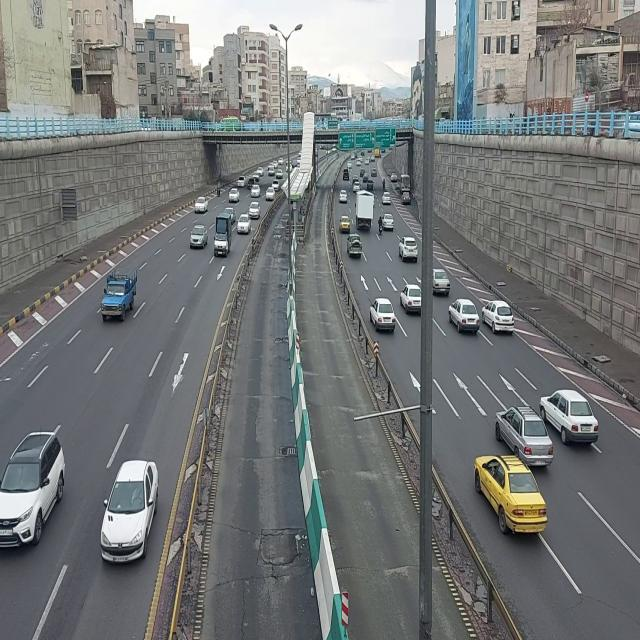Car: (1, 430, 67, 554), (473, 455, 549, 545), (101, 459, 161, 567), (494, 402, 554, 462), (540, 386, 600, 446), (482, 295, 516, 335), (447, 297, 481, 336), (369, 295, 395, 335), (400, 281, 422, 315), (398, 234, 418, 264), (435, 267, 453, 299), (190, 222, 210, 250), (236, 215, 252, 237), (194, 195, 210, 215), (383, 213, 396, 233), (248, 201, 262, 219), (339, 216, 351, 236), (228, 187, 240, 203), (400, 192, 412, 206), (266, 186, 276, 202), (251, 184, 261, 200), (382, 191, 392, 205), (237, 175, 247, 188), (339, 190, 347, 204), (342, 167, 350, 181), (272, 179, 281, 191), (367, 179, 375, 191), (247, 177, 255, 189), (268, 165, 276, 177), (276, 168, 284, 180), (363, 172, 370, 184), (353, 182, 361, 192), (390, 172, 398, 182), (253, 171, 261, 181), (352, 175, 360, 184), (371, 167, 378, 177), (356, 158, 362, 168), (278, 157, 284, 167)
Motorcycle: (378, 215, 384, 237), (216, 179, 222, 199), (382, 178, 386, 190)
Pickup: (99, 269, 139, 321), (347, 232, 365, 262)
Truck: (213, 210, 233, 260), (355, 190, 375, 232)
